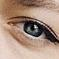eye: (24, 22, 41, 37)
